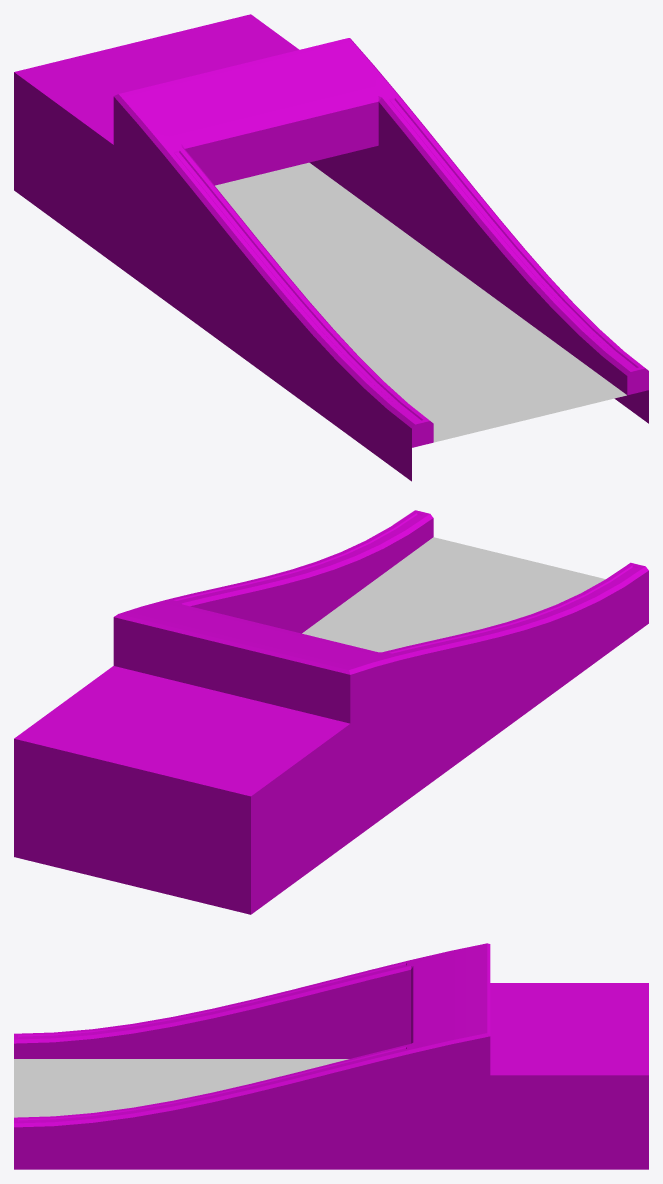
Rendered from Highway Slope_segment_1.fbx.
3 views of the same model, one above another, from view 1: azimuth 30°, elevation 25°; view 2: azimuth 150°, elevation 25°; view 3: azimuth 270°, elevation 25° (orthographic). The views are drawn at different scales.
Parts seen in each view (by area): view 1: highway-tunnel-slope; view 2: highway-tunnel-slope; view 3: highway-tunnel-slope.
Boxes of the visible parts, x1,y1,x2,y2 form: highway-tunnel-slope: (14, 14, 648, 481); highway-tunnel-slope: (14, 510, 648, 914); highway-tunnel-slope: (14, 943, 648, 1169).
Bounding box in the file's own units: 22 × 15.06 × 64.
